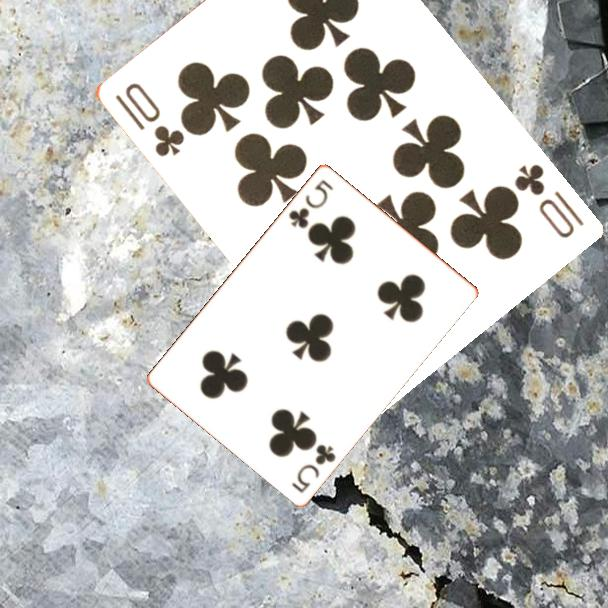c05: (285, 175, 336, 231), (288, 440, 339, 496)
c10: (110, 78, 187, 160), (509, 160, 586, 242)
